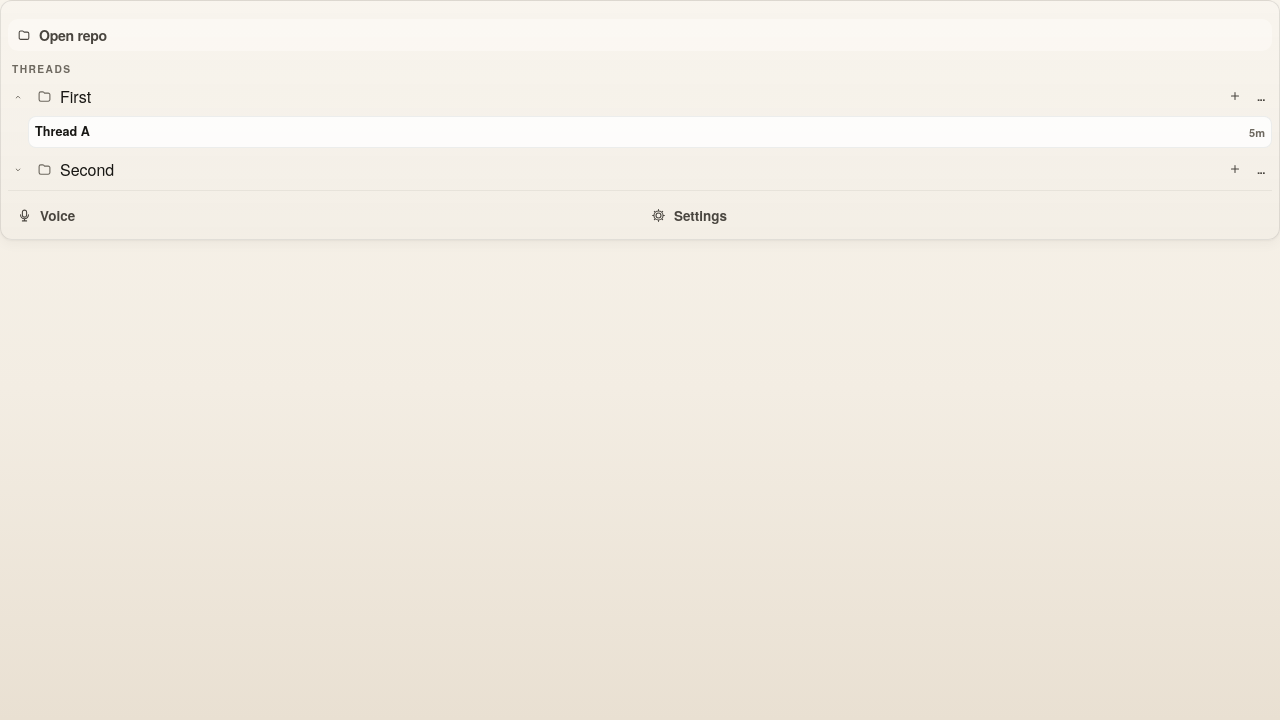
LeftRail › highlights only the current project's active thread
This screenshot has width=1280, height=720.
Click the button named "Expand Second": (18, 170) left=8, top=160, right=28, bottom=180
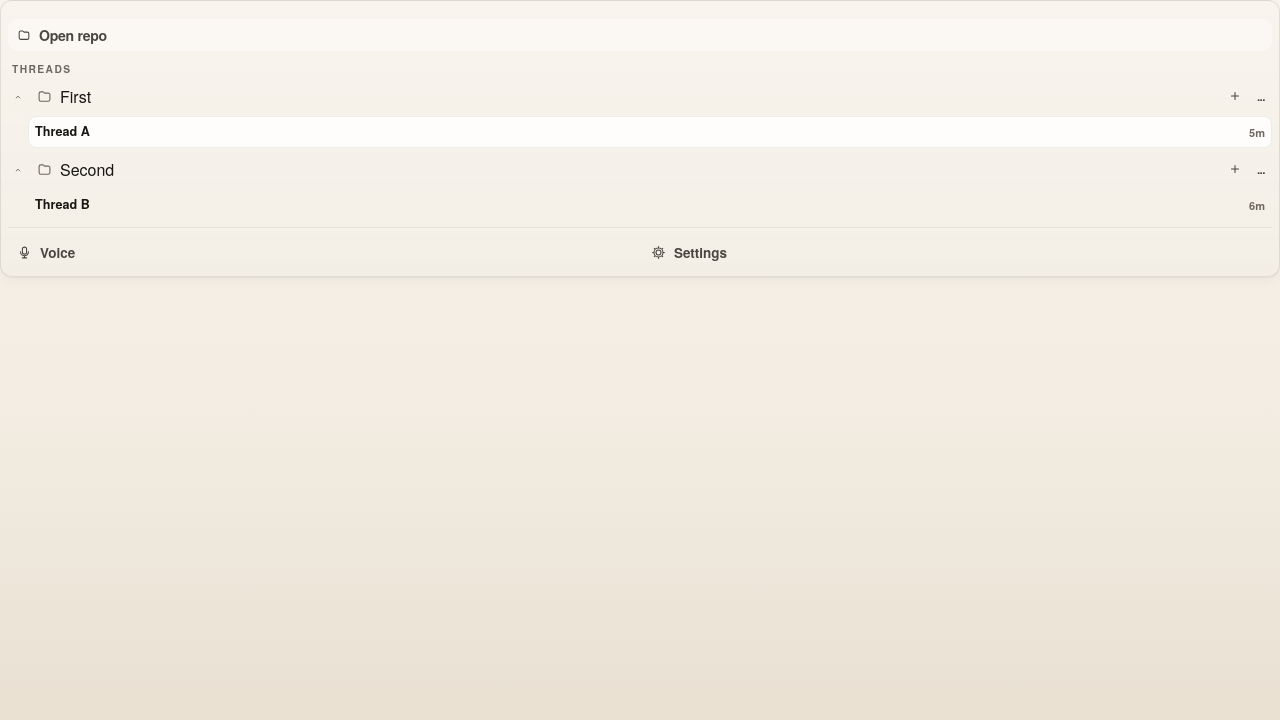
Expected: the button "Thread A 5m" is shown, left=28, top=116, right=1272, bottom=148
Expected: the element showing "Thread B 6m" is shown, left=35, top=197, right=1265, bottom=213
